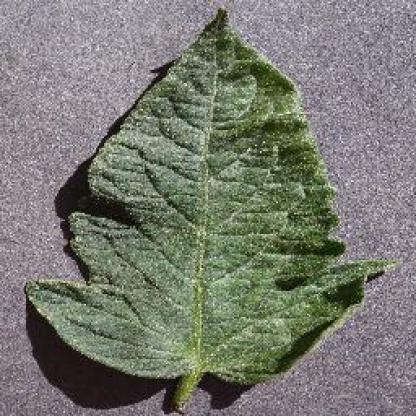good leaf: (103, 45, 341, 384)
